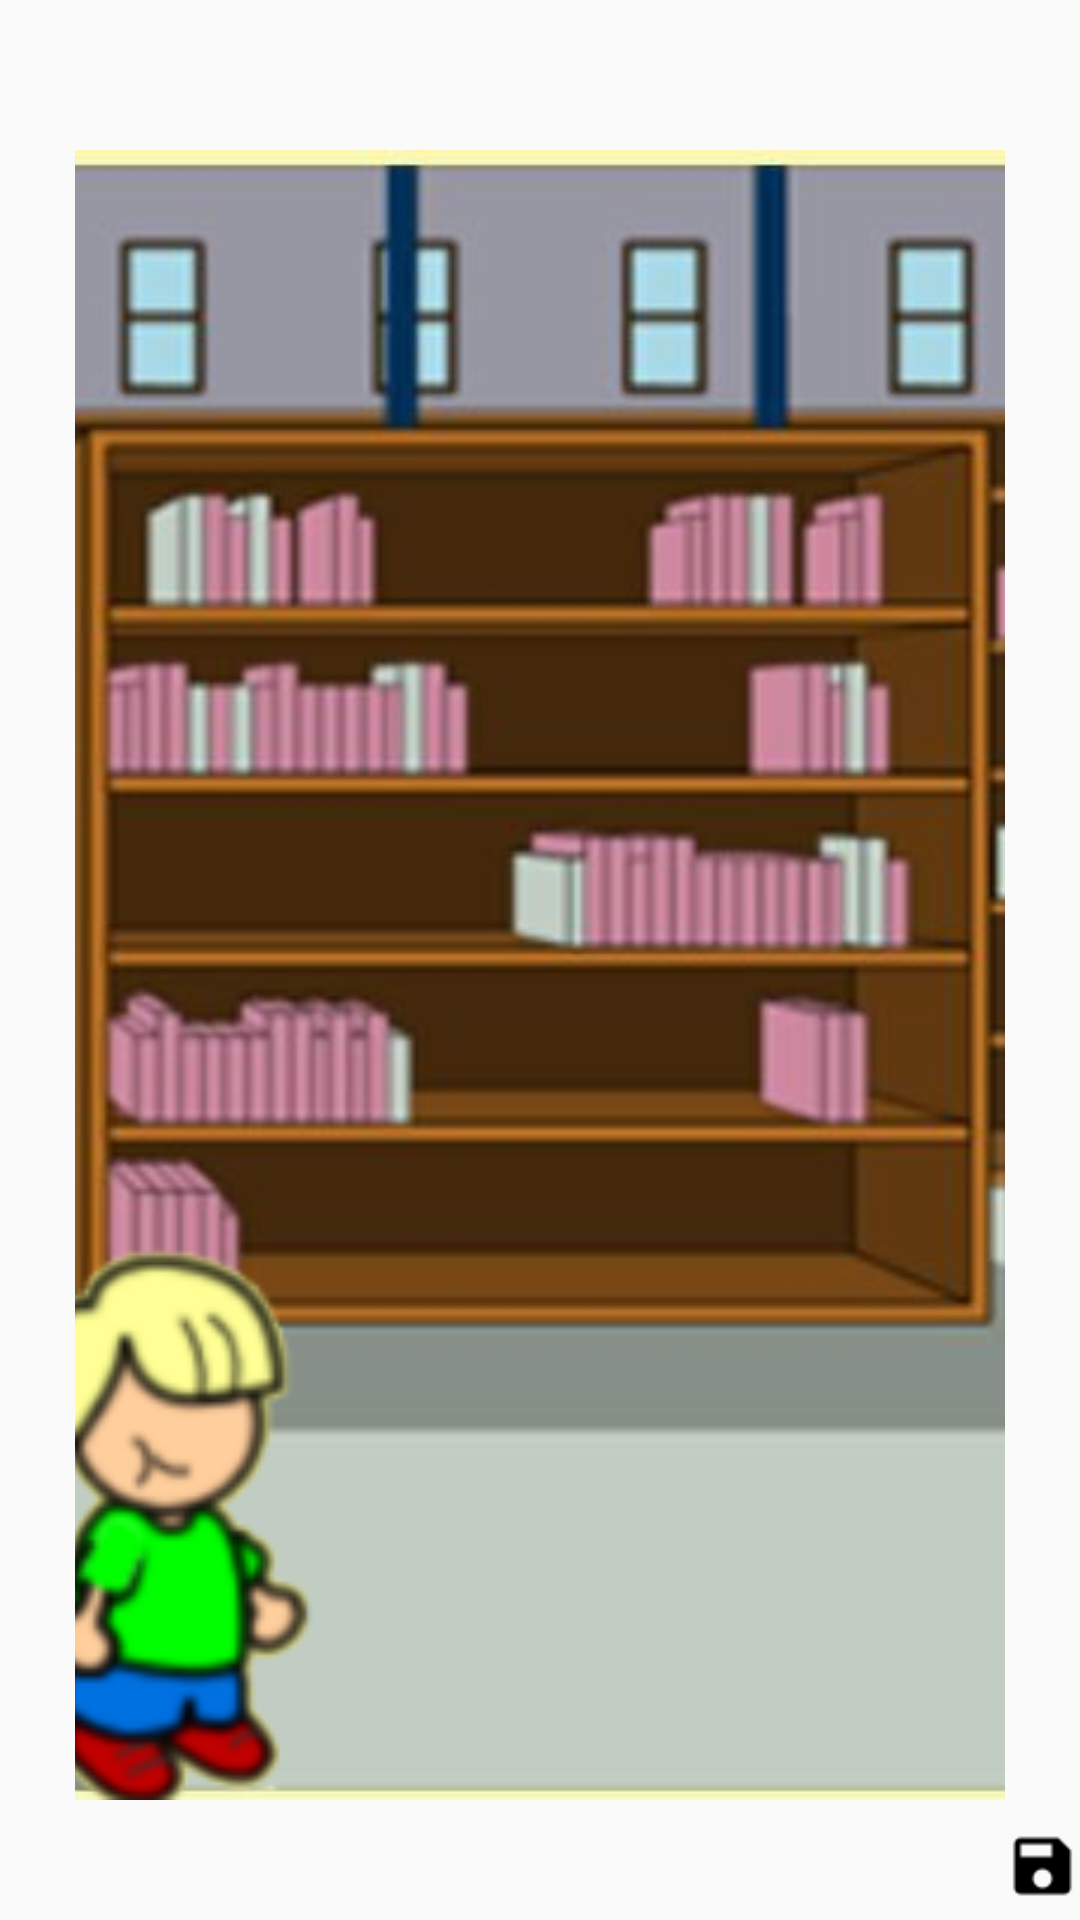

Where to tap for icons on this 1080px x 1920px app screen, as (x=x, y=y):
save: (x=1042, y=1866)
